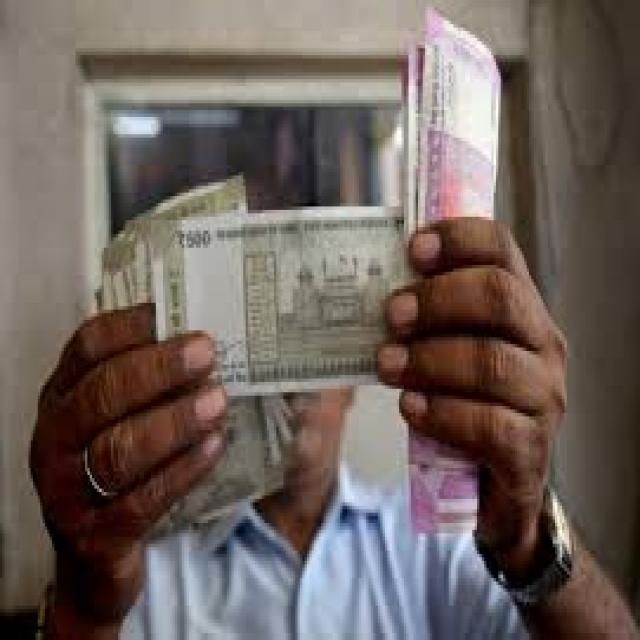money: (150, 204, 448, 407)
